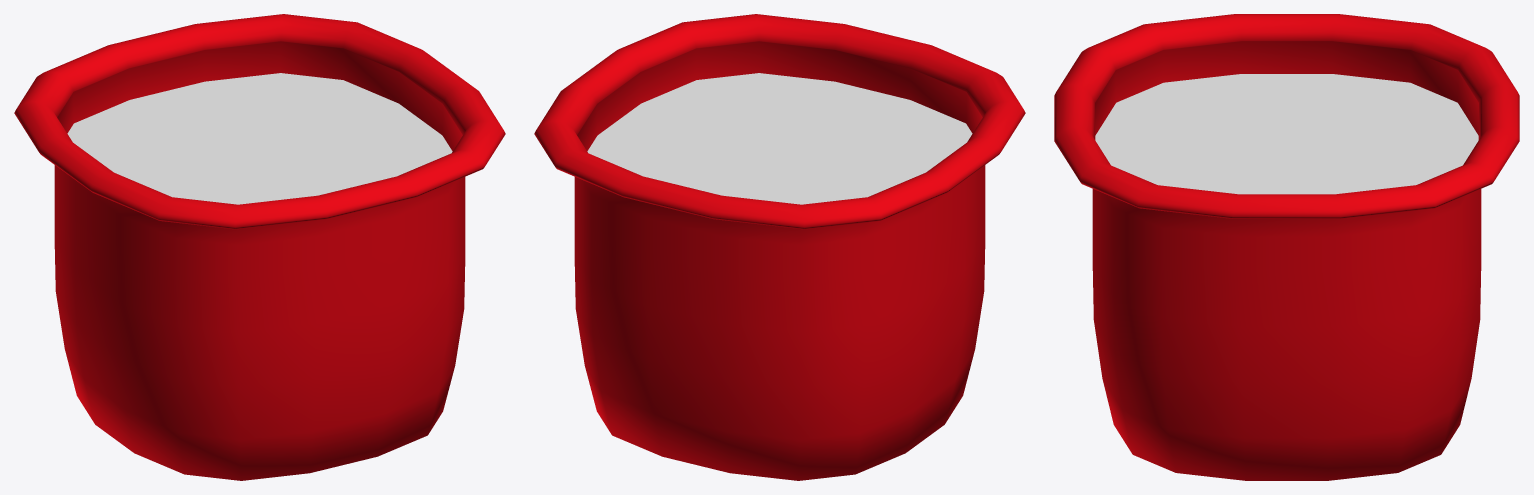
Rendered from SandBucket.fbx.
The picture shows the model from 3 angles, left to right: view 1: azimuth 30°, elevation 25°; view 2: azimuth 150°, elevation 25°; view 3: azimuth 270°, elevation 25°; orthographic projection. The views are drawn at different scales.
Visible parts, largest first — view 1: Bucket.001, Sand.001; view 2: Bucket.001, Sand.001; view 3: Bucket.001, Sand.001.
Part boxes in pixels (bbox=[...]): Bucket.001: bbox=[14, 14, 505, 480]; Sand.001: bbox=[67, 73, 452, 204]; Bucket.001: bbox=[534, 14, 1025, 480]; Sand.001: bbox=[587, 73, 972, 204]; Bucket.001: bbox=[1054, 14, 1519, 480]; Sand.001: bbox=[1095, 74, 1478, 194].
Bounding box in the file's own units: 176 × 136 × 176.
